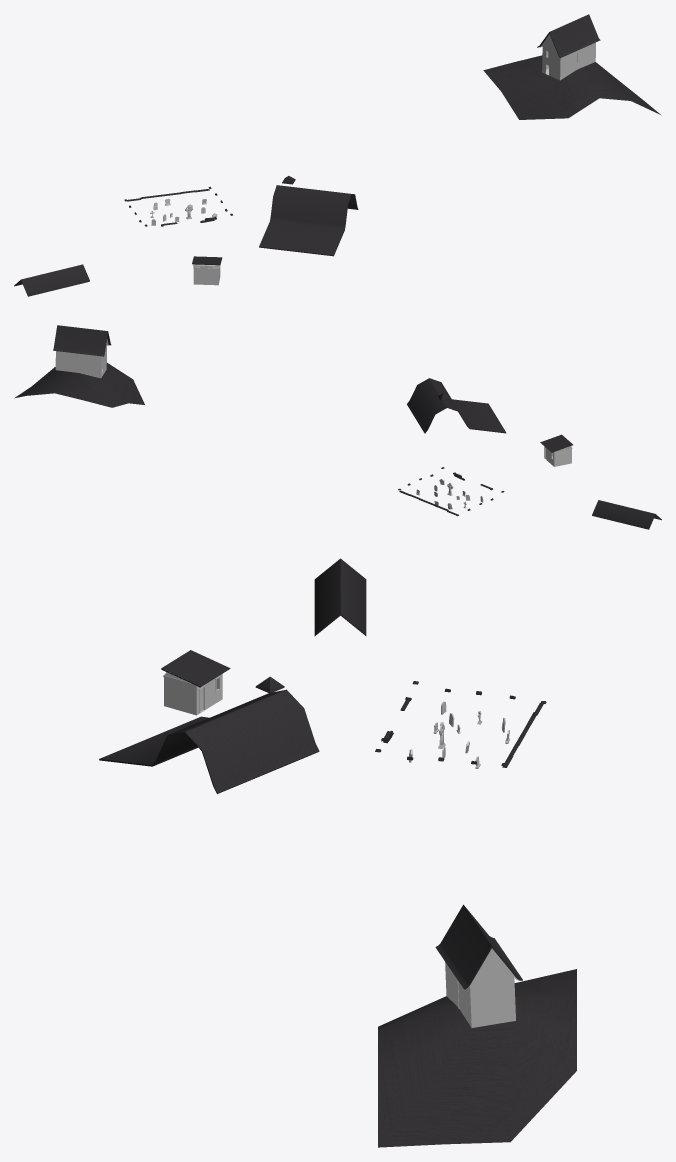
File: nightmarewalk6.obj
3 views of the same model, one above another, from view 1: azimuth 30°, elevation 25°; view 2: azimuth 150°, elevation 25°; view 3: azimuth 270°, elevation 25° (orthographic). The views are drawn at different scales.
Parts seen in each view (by area): view 1: nightmarewalk:nightmarewalk5:Mesh2 nightmarewalk:nightmarewalk5:, Combined_Mesh__root__scene_:Combined Combined_Mesh__root__scene_, nightmarewalk:nightmarewalk5:Mesh1 nightmarewalk:nightmarewalk5:; view 2: nightmarewalk:nightmarewalk5:Mesh2 nightmarewalk:nightmarewalk5:, Combined_Mesh__root__scene_:Combined Combined_Mesh__root__scene_, nightmarewalk:nightmarewalk5:Mesh1 nightmarewalk:nightmarewalk5:, nightmarewalk:nightmarewalk5:Combined nightmarewalk:nightmarewal; view 3: nightmarewalk:nightmarewalk5:Mesh2 nightmarewalk:nightmarewalk5:, Combined_Mesh__root__scene_:Combined Combined_Mesh__root__scene_, nightmarewalk:nightmarewalk5:Mesh1 nightmarewalk:nightmarewalk5:.
Part boxes in pixels (bbox=[...]): nightmarewalk:nightmarewalk5:Mesh2 nightmarewalk:nightmarewalk5:: bbox=[14, 14, 661, 296]; Combined_Mesh__root__scene_:Combined Combined_Mesh__root__scene_: bbox=[540, 34, 595, 80]; nightmarewalk:nightmarewalk5:Mesh1 nightmarewalk:nightmarewalk5:: bbox=[193, 264, 220, 285]; nightmarewalk:nightmarewalk5:Mesh2 nightmarewalk:nightmarewalk5:: bbox=[14, 325, 661, 529]; Combined_Mesh__root__scene_:Combined Combined_Mesh__root__scene_: bbox=[55, 338, 108, 378]; nightmarewalk:nightmarewalk5:Mesh1 nightmarewalk:nightmarewalk5:: bbox=[544, 445, 572, 466]; nightmarewalk:nightmarewalk5:Combined nightmarewalk:nightmarewal: bbox=[416, 479, 483, 509]; nightmarewalk:nightmarewalk5:Mesh2 nightmarewalk:nightmarewalk5:: bbox=[99, 558, 576, 1147]; Combined_Mesh__root__scene_:Combined Combined_Mesh__root__scene_: bbox=[445, 948, 520, 1027]; nightmarewalk:nightmarewalk5:Mesh1 nightmarewalk:nightmarewalk5:: bbox=[163, 670, 222, 715].
Size of the model in its own units: 159 by 22.99 by 54.8.
